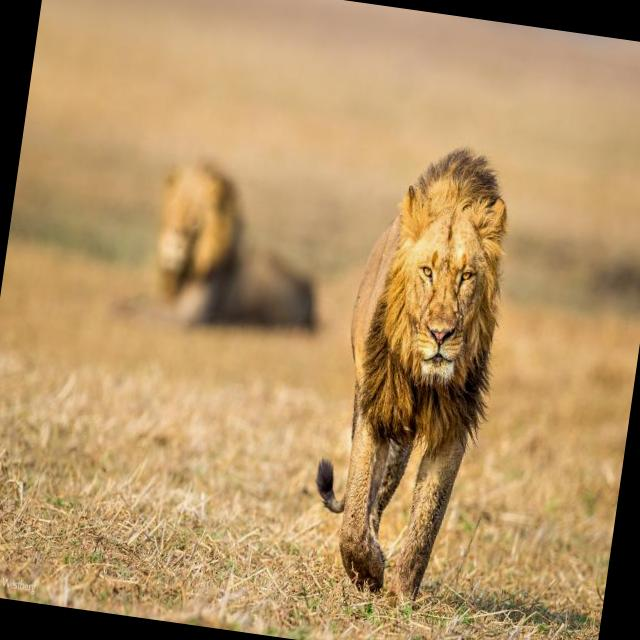lions: (287, 96, 620, 640)
